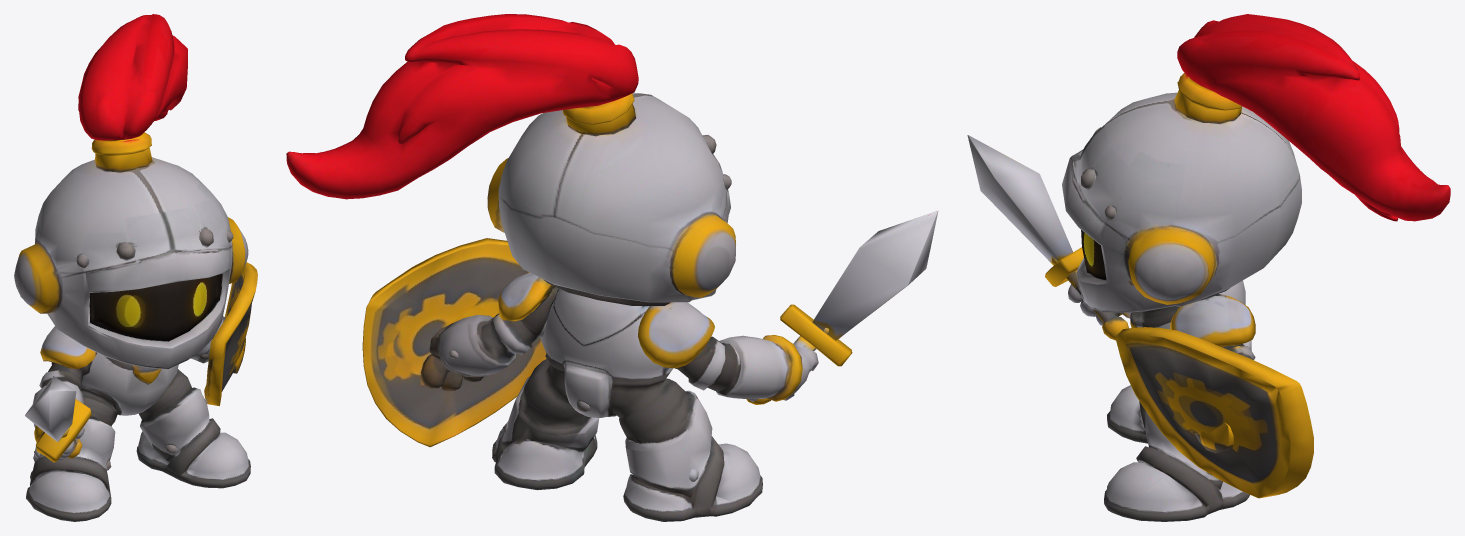
The model's file is avatar5.glb.
3 views of the same model, side by side, from view 1: azimuth 30°, elevation 25°; view 2: azimuth 150°, elevation 25°; view 3: azimuth 270°, elevation 25° (orthographic). The views are drawn at different scales.
Visible parts, largest first — view 1: tripo_node_0618b54d-1465-48ec-a17a-e5ce505f550b; view 2: tripo_node_0618b54d-1465-48ec-a17a-e5ce505f550b; view 3: tripo_node_0618b54d-1465-48ec-a17a-e5ce505f550b.
Part boxes in pixels (left/top/right/bottom): tripo_node_0618b54d-1465-48ec-a17a-e5ce505f550b: left=14, top=14, right=257, bottom=521; tripo_node_0618b54d-1465-48ec-a17a-e5ce505f550b: left=286, top=14, right=938, bottom=521; tripo_node_0618b54d-1465-48ec-a17a-e5ce505f550b: left=967, top=14, right=1450, bottom=521.
Bounding box in the file's own units: 0.877 × 0.998 × 0.9395.
1 material, 1 textured.
